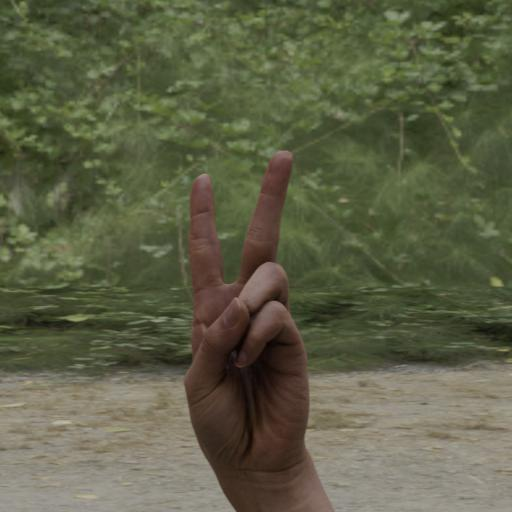V: (166, 147, 322, 506)
